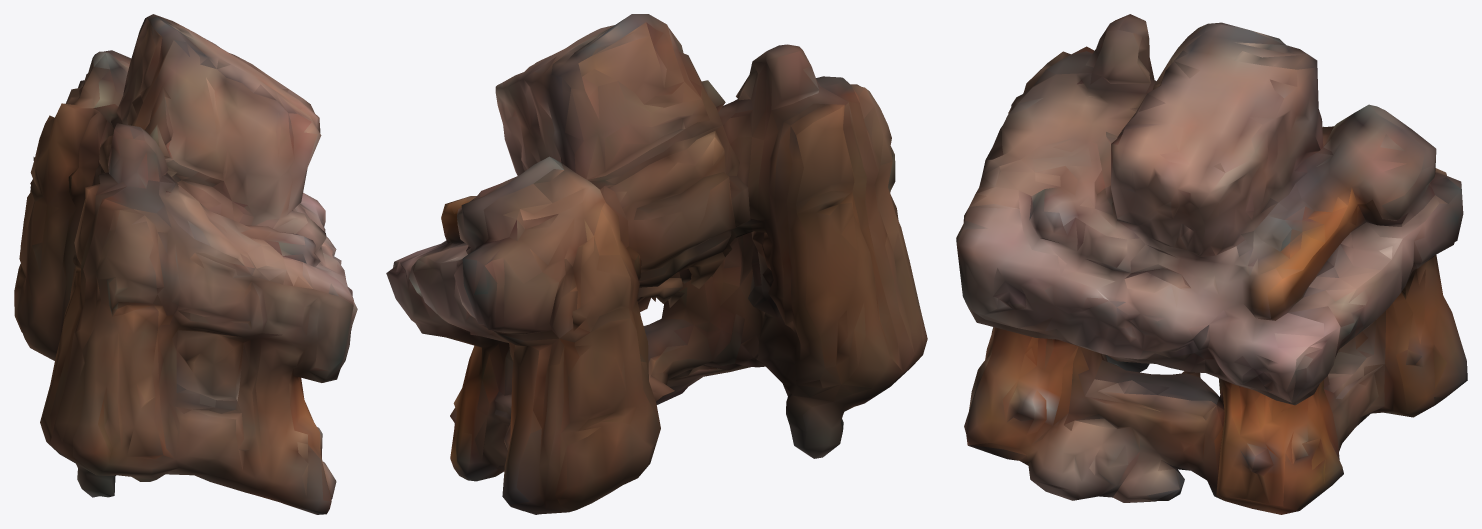
File: masonry_table.glb
The picture shows the model from 3 angles, left to right: view 1: azimuth 30°, elevation 25°; view 2: azimuth 150°, elevation 25°; view 3: azimuth 270°, elevation 25°; orthographic projection. The views are drawn at different scales.
Parts seen in each view (by area): view 1: model; view 2: model; view 3: model.
Part boxes in pixels (x1,y1,x2,y2): model: (14,14,357,514); model: (386,14,927,514); model: (956,14,1467,514).
Bounding box in the file's own units: 1.35 × 1.51 × 1.6.
Materials: 1 (1 with a texture image).
